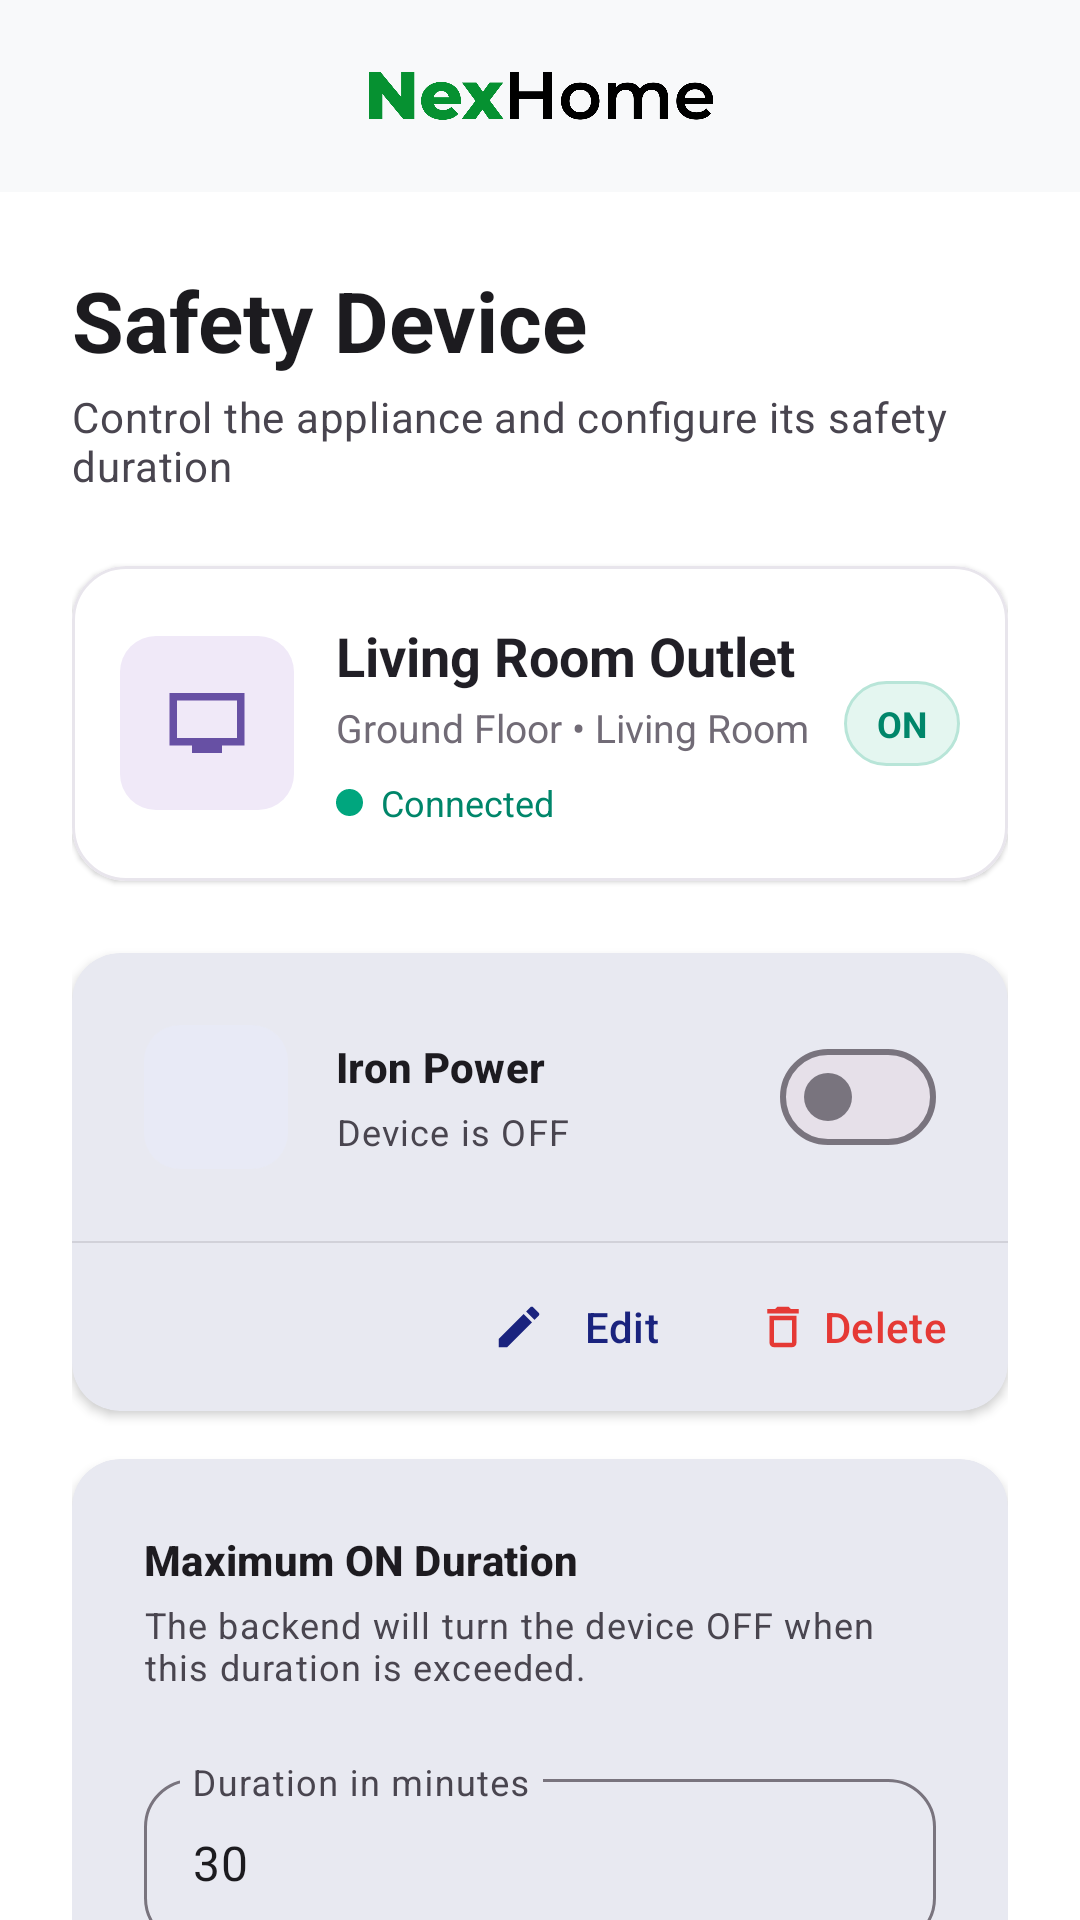

Named icons in this screenshot (1080px x 1920px) and their bounding boxes, (left=x1, top=y1, right=x2, bottom=y2):
Device icon: (left=120, top=636, right=294, bottom=810)
status dot on: (left=336, top=789, right=363, bottom=816)
